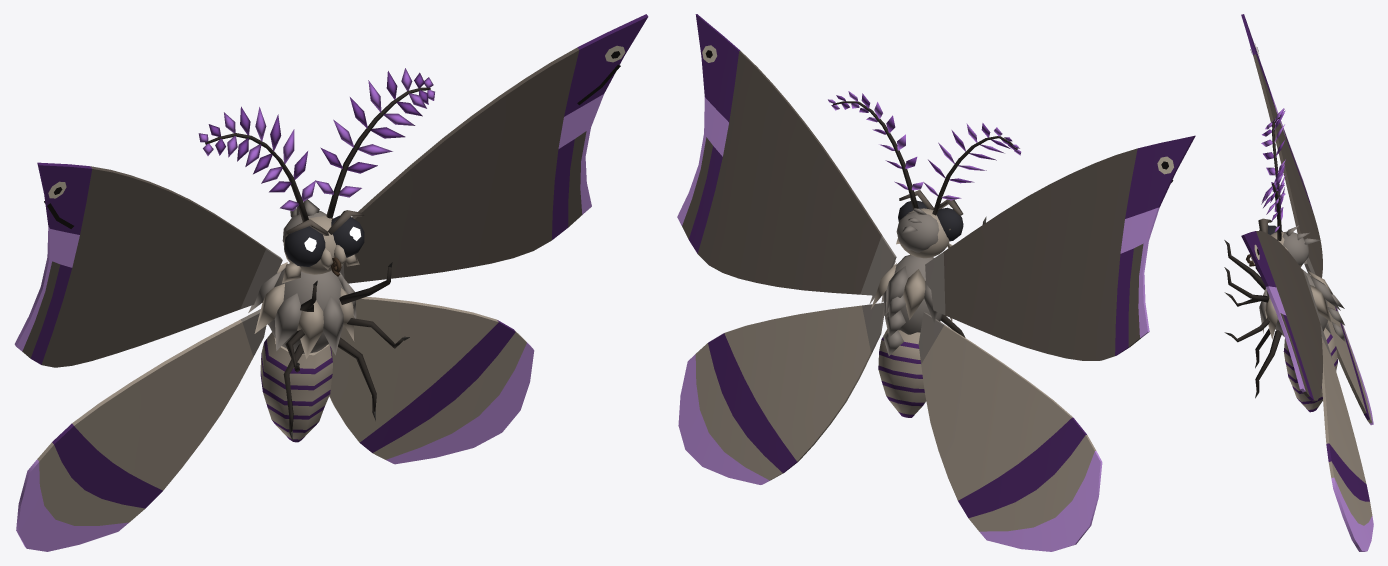
Rendered from moth-serpent-wing.glb.
The picture shows the model from 3 angles, left to right: view 1: azimuth 30°, elevation 25°; view 2: azimuth 150°, elevation 25°; view 3: azimuth 270°, elevation 25°; orthographic projection. The views are drawn at different scales.
Visible parts, largest first — view 1: glide_wing_0, glide_wing_1, body, pulse_abdomen, sway_feeler_l, sway_feeler_r, turn_head, blink_eye_r, blink_eye_l; view 2: glide_wing_1, glide_wing_0, body, pulse_abdomen, turn_head, sway_feeler_l, sway_feeler_r; view 3: glide_wing_0, glide_wing_1, body, turn_head, pulse_abdomen, sway_feeler_r, sway_feeler_l.
Boxes of the visible parts, x1,y1,x2,y2 form: glide_wing_0: [329, 14, 648, 464]; glide_wing_1: [14, 162, 282, 551]; body: [248, 262, 409, 441]; pulse_abdomen: [260, 332, 332, 442]; sway_feeler_l: [315, 68, 434, 218]; sway_feeler_r: [198, 106, 315, 221]; turn_head: [282, 199, 364, 283]; blink_eye_r: [284, 226, 325, 266]; blink_eye_l: [331, 215, 364, 257]; glide_wing_1: [918, 135, 1195, 551]; glide_wing_0: [677, 14, 896, 484]; body: [869, 216, 986, 355]; pulse_abdomen: [878, 329, 926, 417]; turn_head: [896, 190, 963, 258]; sway_feeler_l: [828, 91, 923, 209]; sway_feeler_r: [923, 123, 1021, 215]; glide_wing_0: [1241, 231, 1373, 551]; glide_wing_1: [1241, 14, 1373, 425]; body: [1224, 240, 1345, 398]; turn_head: [1246, 218, 1320, 266]; pulse_abdomen: [1283, 327, 1337, 412]; sway_feeler_r: [1261, 108, 1285, 231]; sway_feeler_l: [1261, 164, 1285, 240].
Size of the model in its own units: 1.17 by 0.873 by 0.336.
